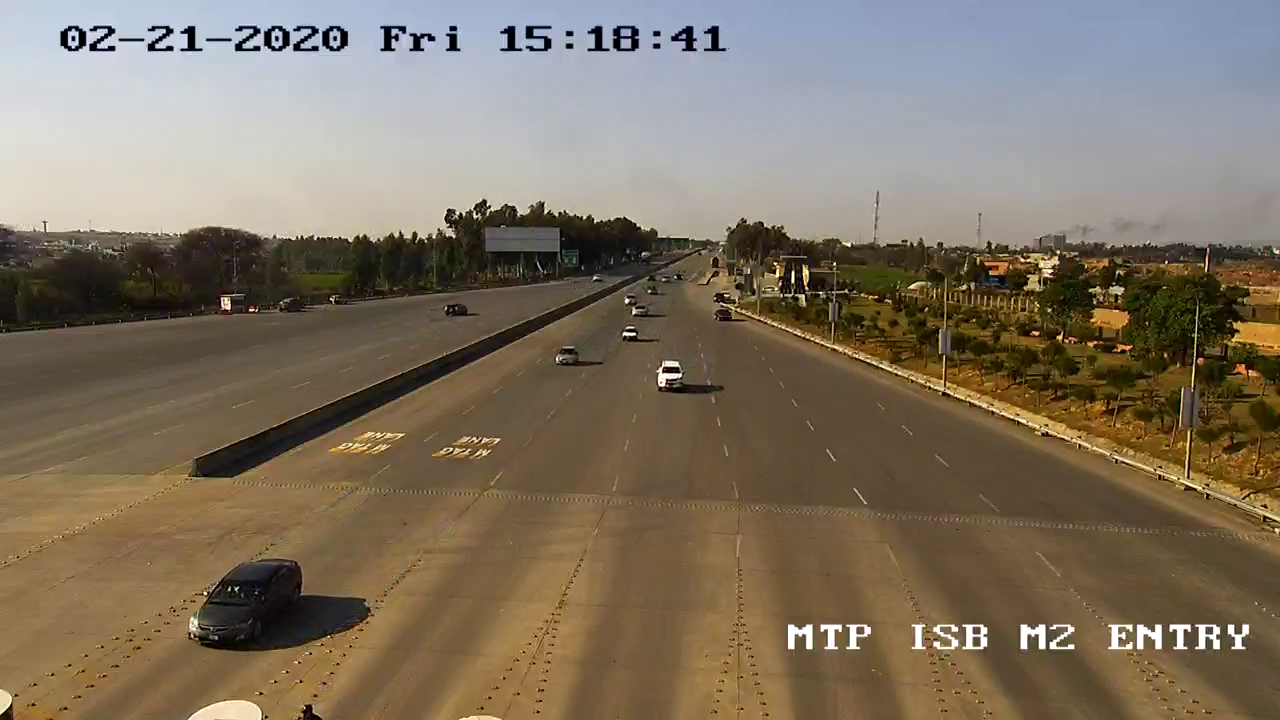f1: (177, 547, 305, 656)
